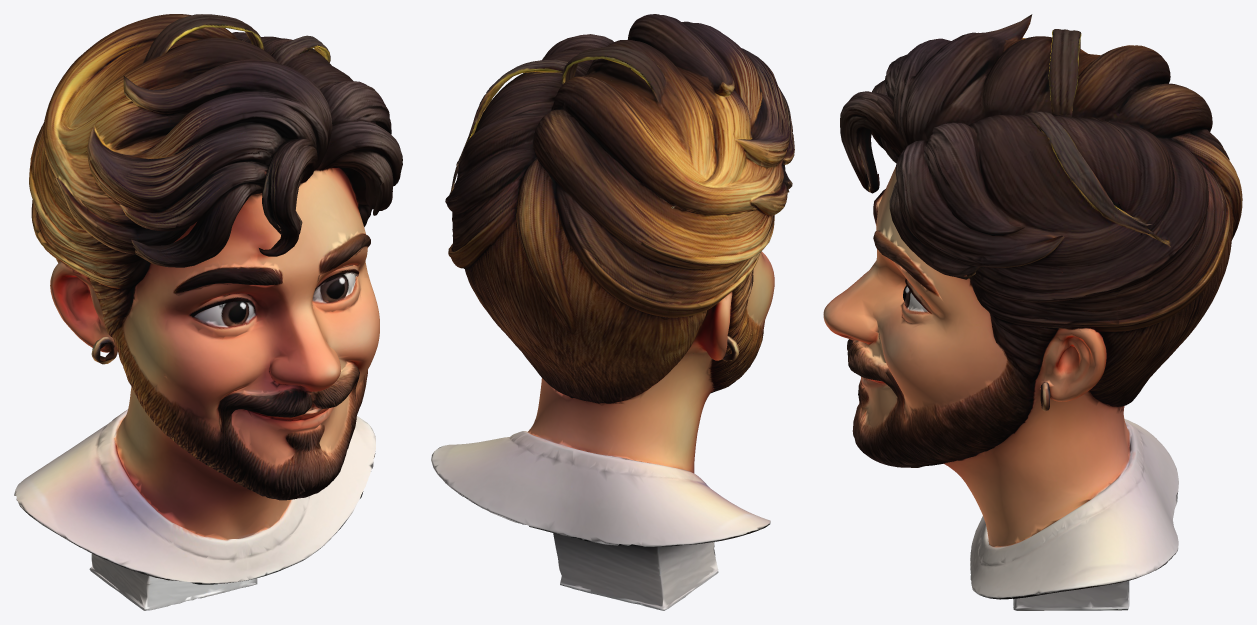
The model's file is lincoln-avatar.glb.
3 views of the same model, side by side, from view 1: azimuth 30°, elevation 25°; view 2: azimuth 150°, elevation 25°; view 3: azimuth 270°, elevation 25° (orthographic). The views are drawn at different scales.
Visible parts, largest first — view 1: tripo_node_a37f1672-b35a-495e-a33a-36d045658e4e; view 2: tripo_node_a37f1672-b35a-495e-a33a-36d045658e4e; view 3: tripo_node_a37f1672-b35a-495e-a33a-36d045658e4e.
Part boxes in pixels (x1,y1,x2,y2): tripo_node_a37f1672-b35a-495e-a33a-36d045658e4e: (14, 14, 402, 610); tripo_node_a37f1672-b35a-495e-a33a-36d045658e4e: (431, 14, 794, 610); tripo_node_a37f1672-b35a-495e-a33a-36d045658e4e: (823, 14, 1242, 610).
Size of the model in its own units: 0.6362 by 0.9797 by 0.6665.
1 material, 1 textured.
